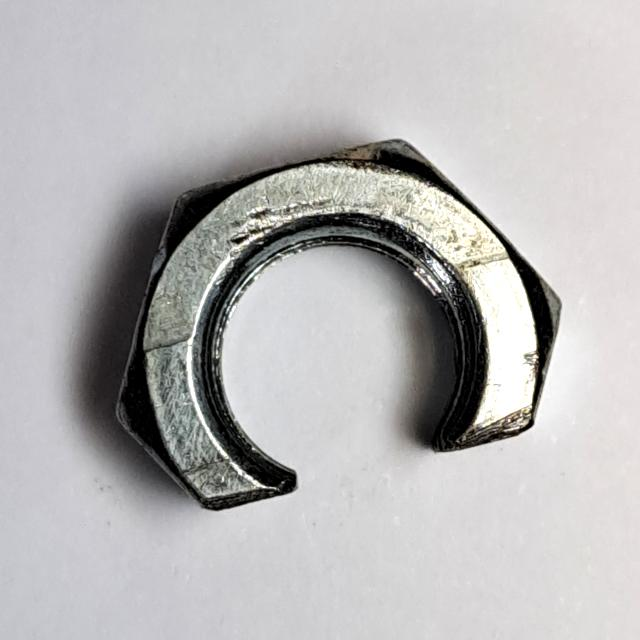Fracture: (93, 124, 575, 524)
